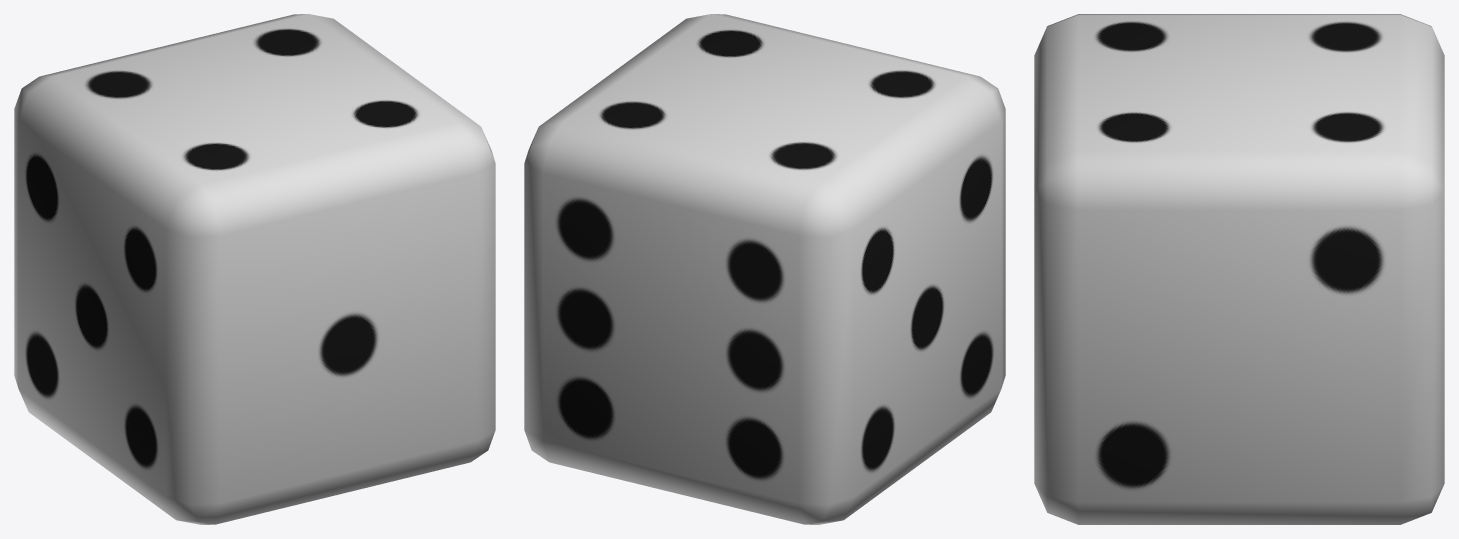
The model's file is dice.fbx.
3 renders of one model, left to right at view 1: azimuth 30°, elevation 25°; view 2: azimuth 150°, elevation 25°; view 3: azimuth 270°, elevation 25°, orthographic. The views are drawn at different scales.
Visible parts, largest first — view 1: dice; view 2: dice; view 3: dice.
Part boxes in pixels (box(x1,y1,x2,y2)): dice: box(14, 14, 495, 524); dice: box(524, 14, 1005, 524); dice: box(1034, 14, 1444, 524).
Bounding box in the file's own units: 2000 × 2000 × 2000.
1 material, 1 textured.
